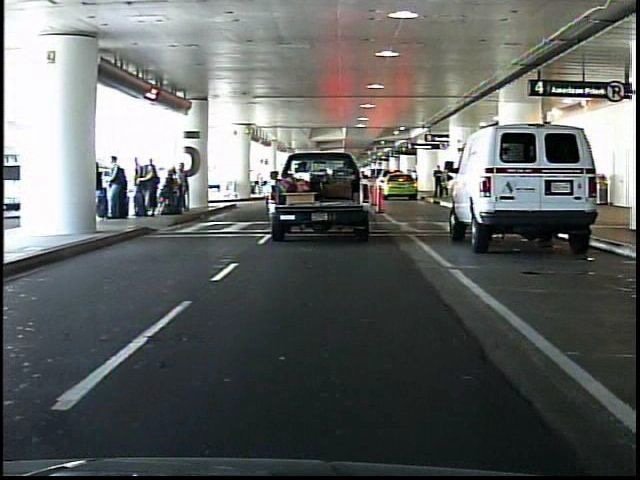person: (432, 165, 445, 201)
